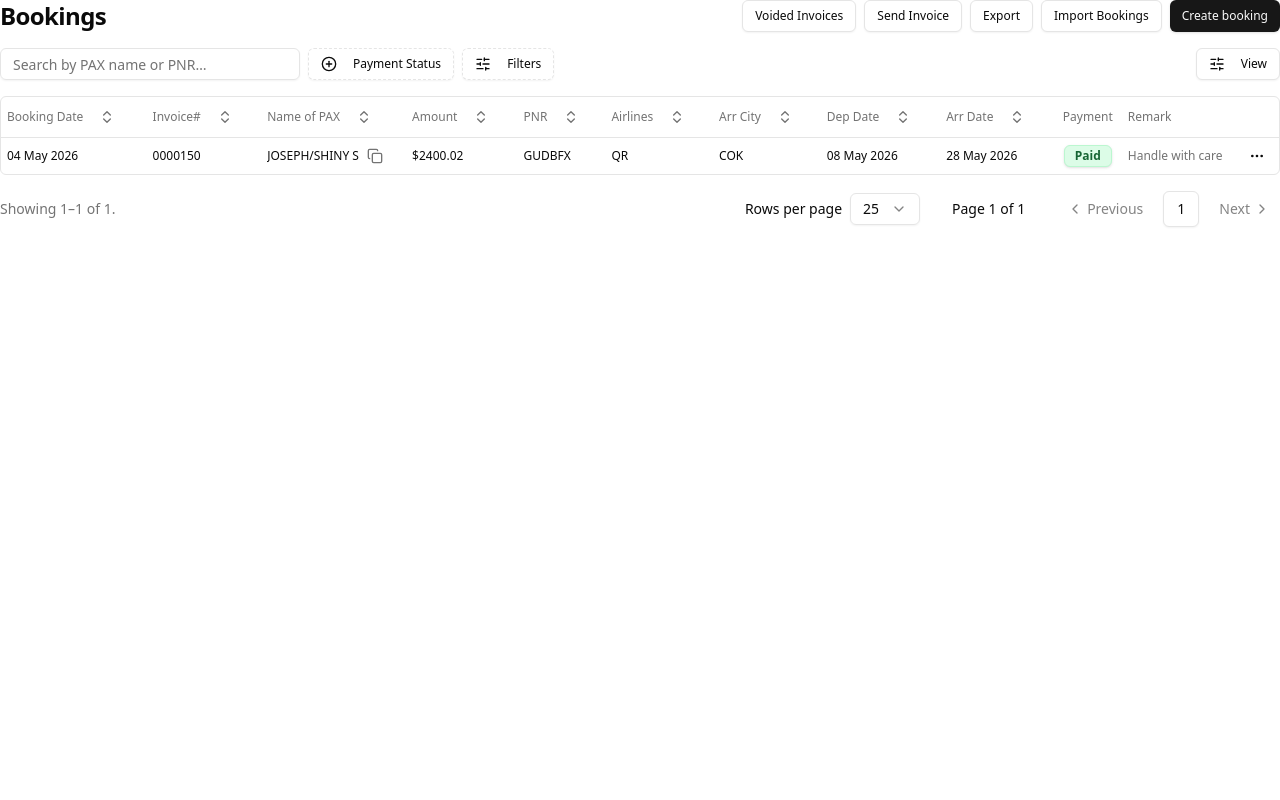
Test case: BookingsPage › selecting a matched customer fills the passenger name field
Click the button "Create booking" at point(1225, 16), box [1170,0,1279,32]
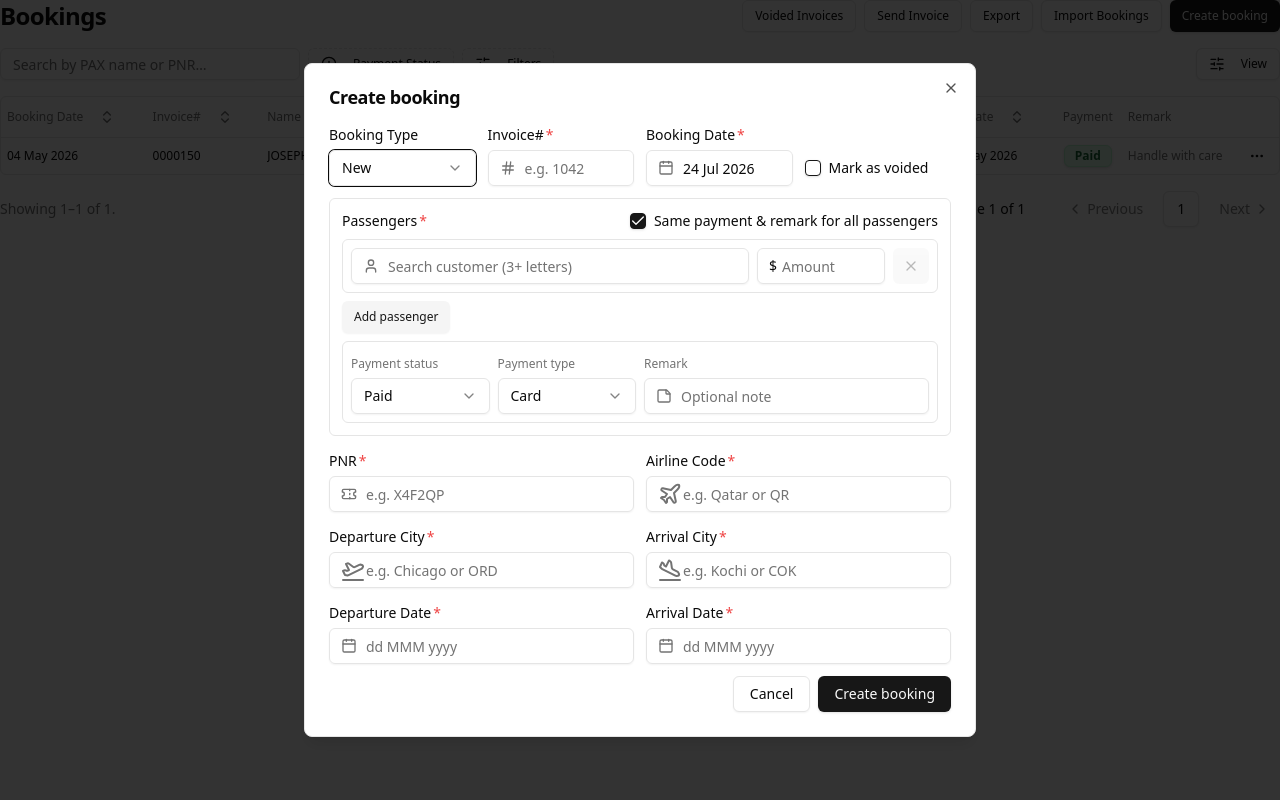
Type "Var" into the dropdown named "Passenger name" at point(550, 266), box [351,248,749,284]
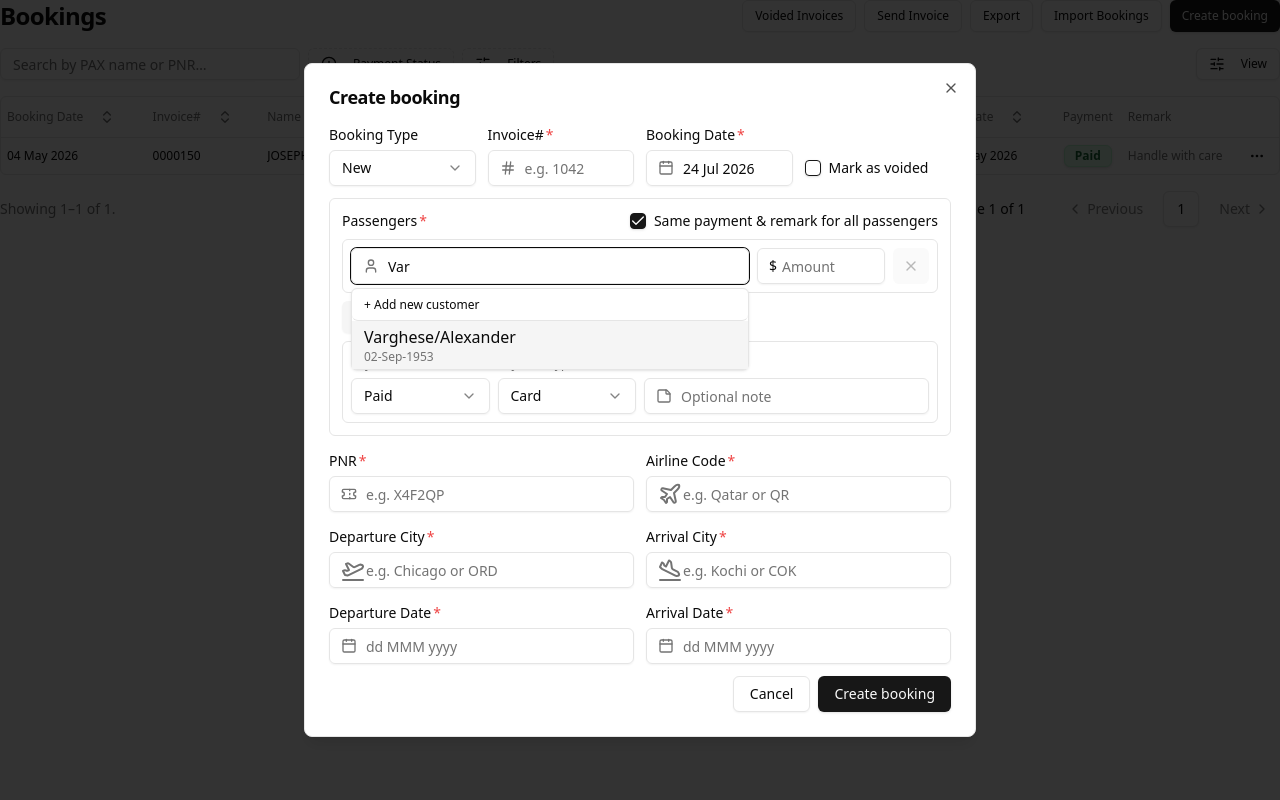
Click the text "Varghese/Alexander" at point(440, 337), box [364,326,516,348]
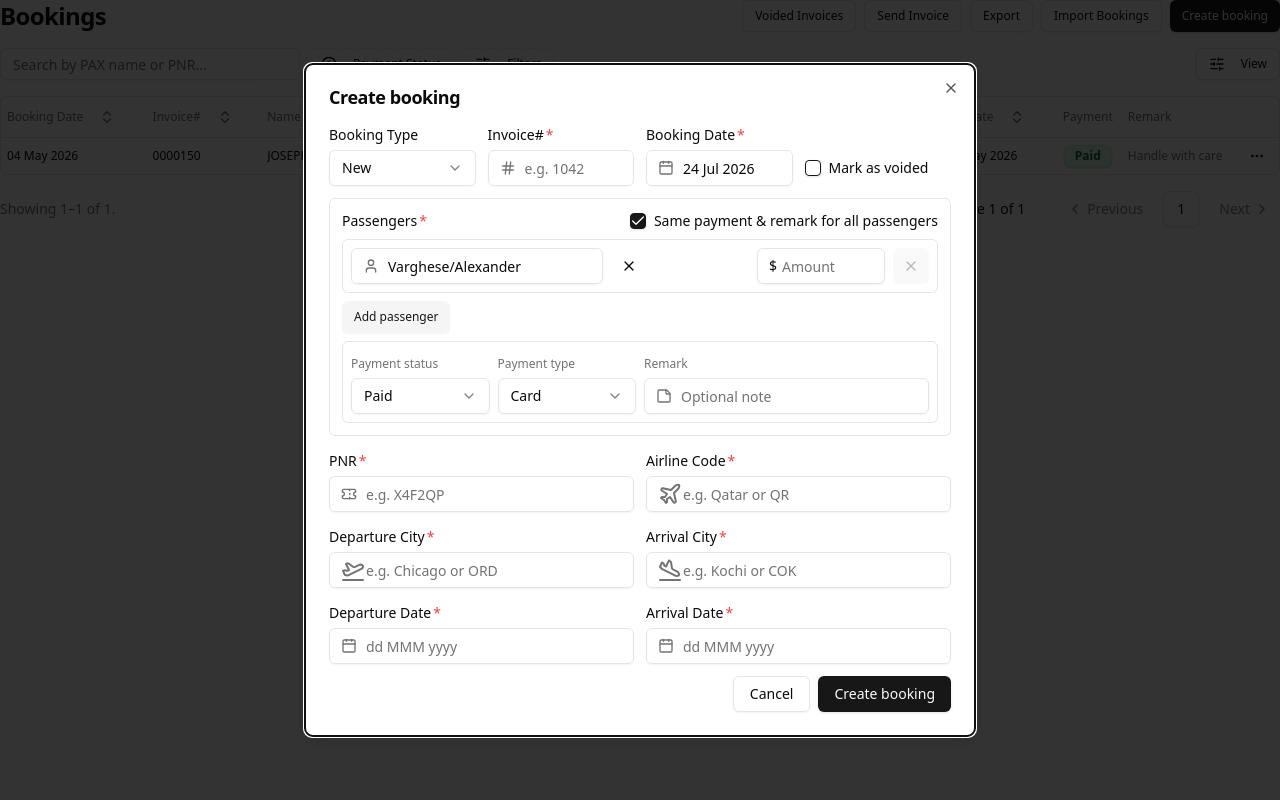
Expected: the field named "Passenger name" holds "Varghese/Alexander", [351,248,603,284]
